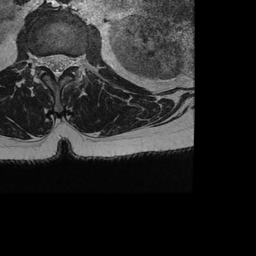CCS_normal: (52, 45, 62, 87)
LFS_normal: (71, 46, 80, 77)
LLS_normal: (62, 45, 70, 77)
RFS_normal: (35, 46, 44, 74)
RLS_normal: (44, 46, 52, 77)
